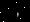person: (19, 11, 25, 20)
